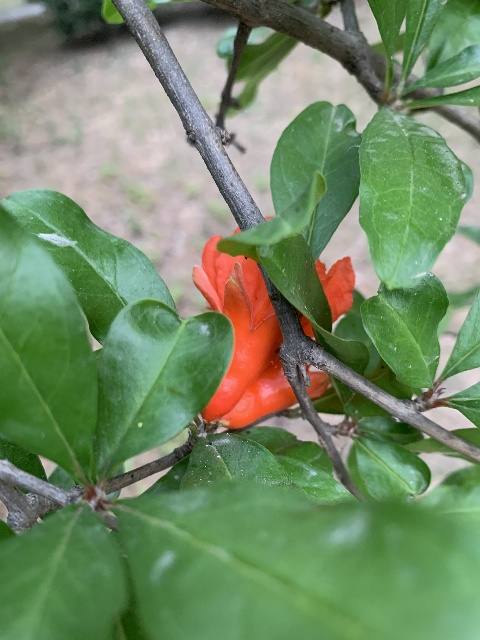bud: (221, 356, 330, 429)
flower: (192, 220, 355, 423)
